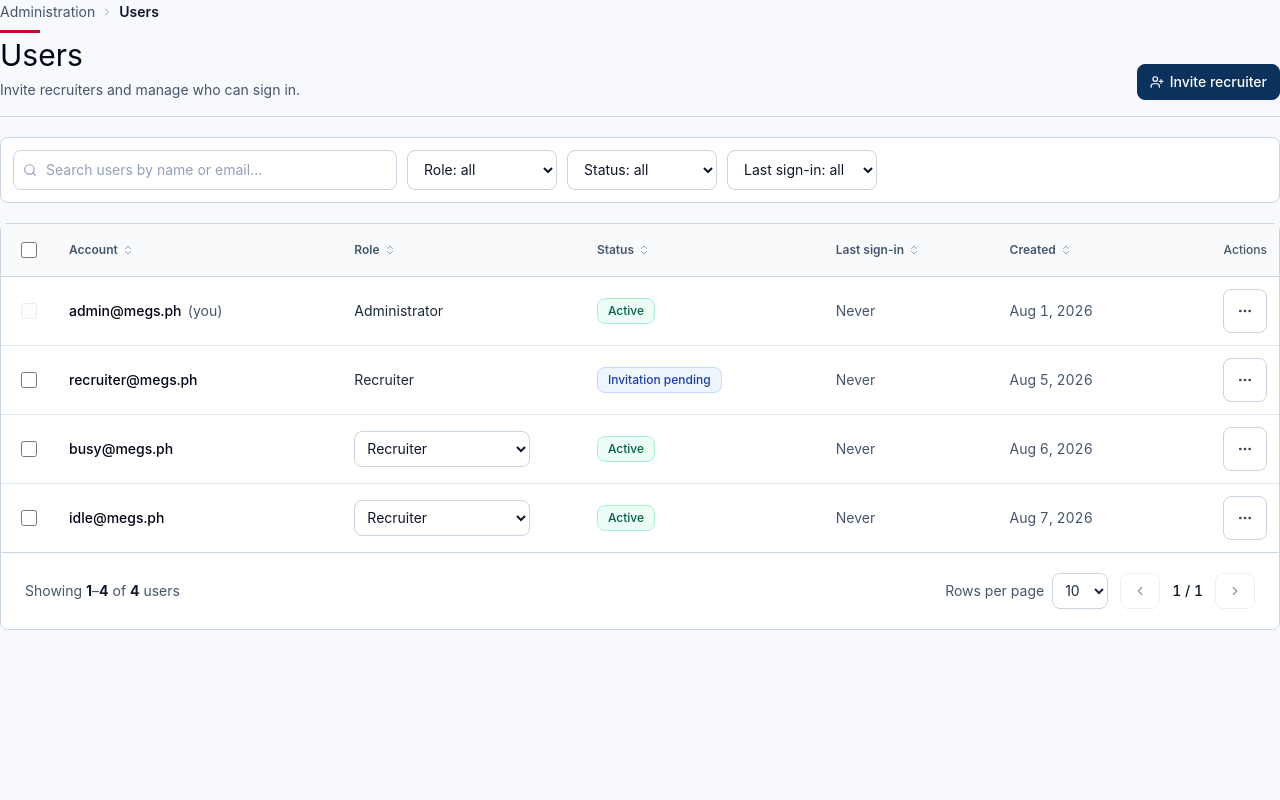
it: Users (UsersPage) › moves focus through the invitation actions and opens the resend dialog
The image size is (1280, 800).
Click the button named "Actions for recruiter@megs.ph".
click(1245, 380)  # box [1223,358,1267,402]
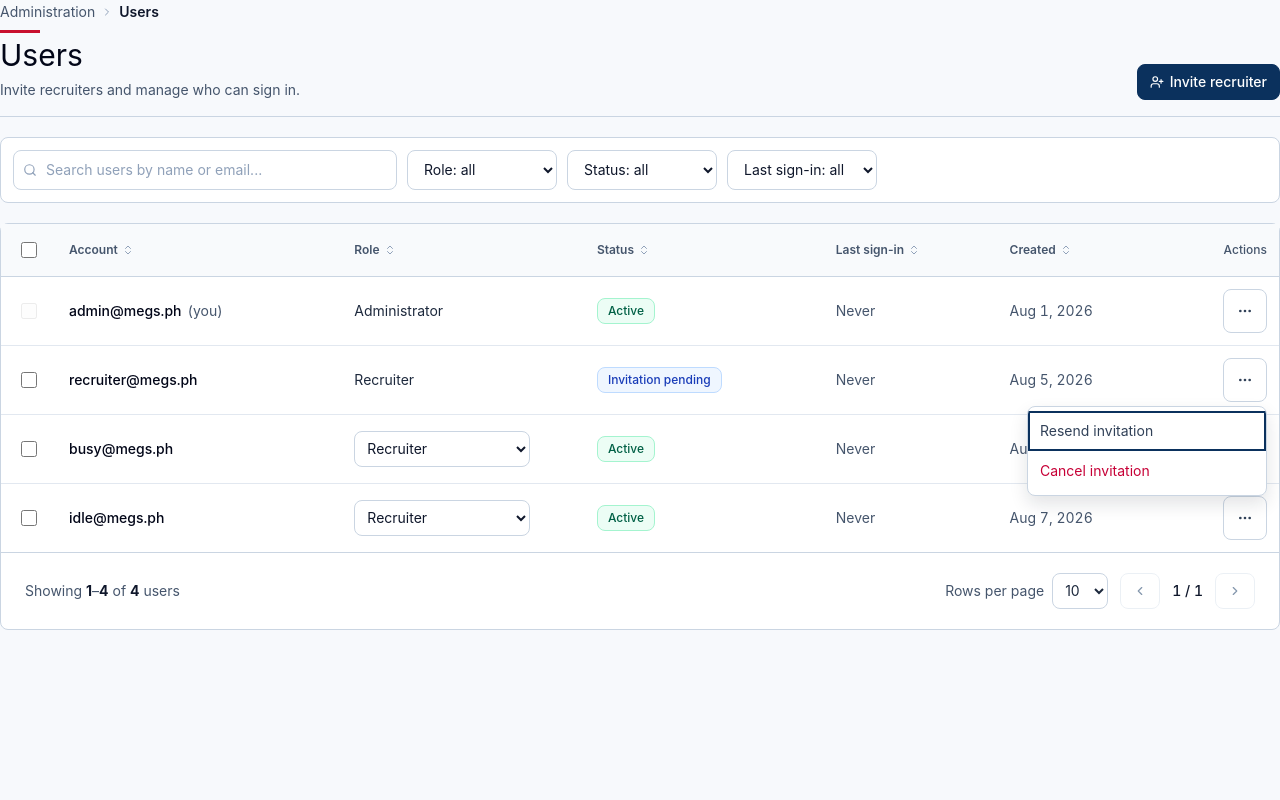
Press ArrowDown in the menu item "Resend invitation", box [1028,410,1266,450]
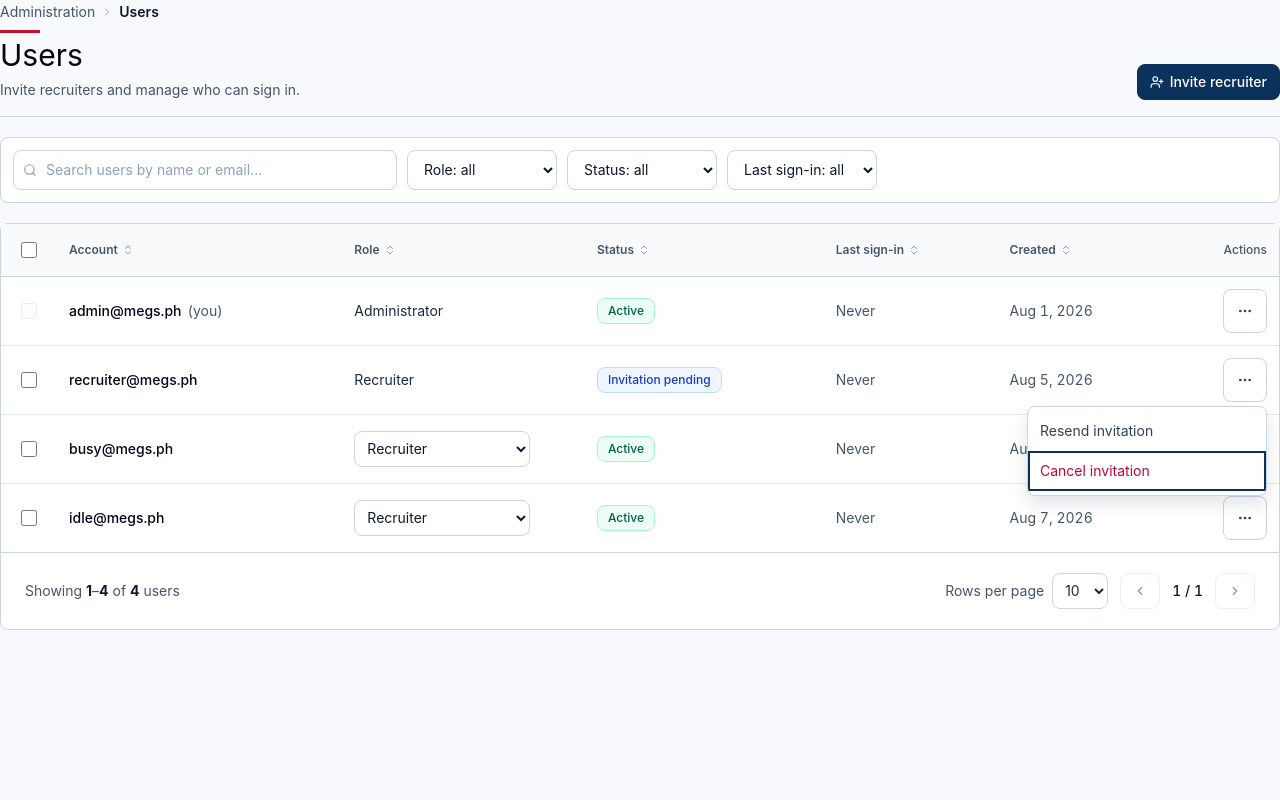
Click the menu item "Resend invitation".
click(1147, 430)  # box [1028,410,1266,450]
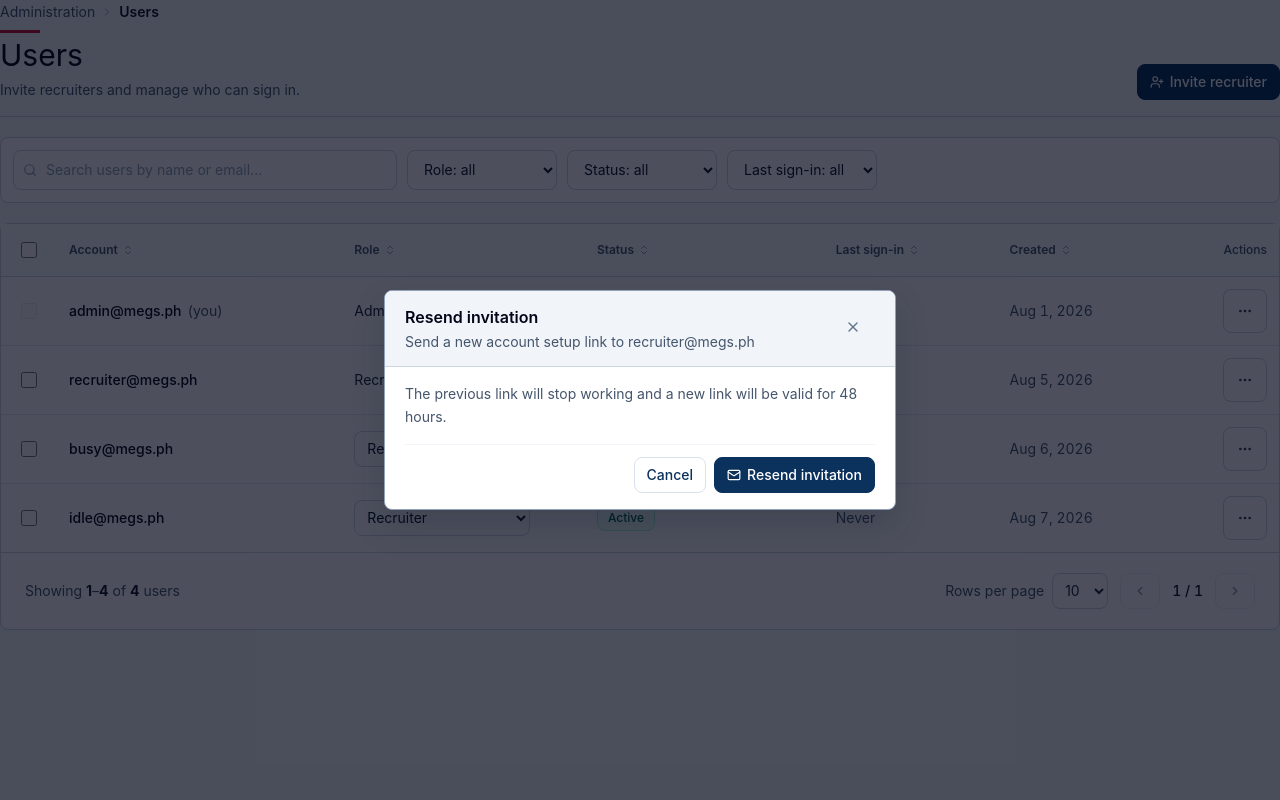
Now the text "Send a new account setup link to recruiter@megs.ph" is shown, box [405,331,755,352]
